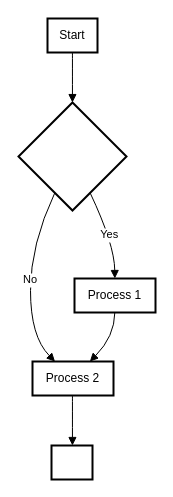
The diagram is 173 pixels wide and 497 high, and some of its shapes have lost their labels. Each missing label, with the centre of its shape:
"Decision" belongs at [72,156].
"End" belongs at [71,462].
